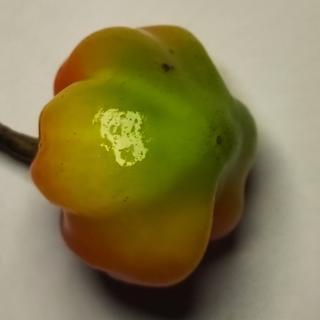Fly-bites: (153, 54, 182, 79), (209, 126, 229, 156)
